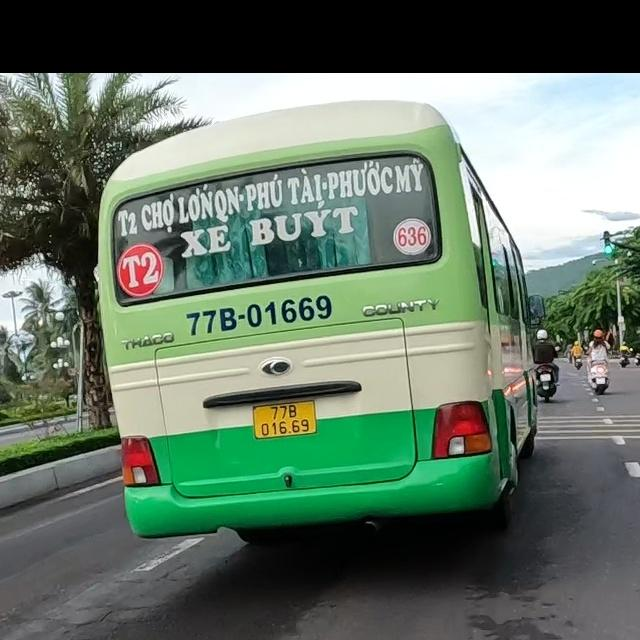license-plate: (253, 400, 317, 440)
